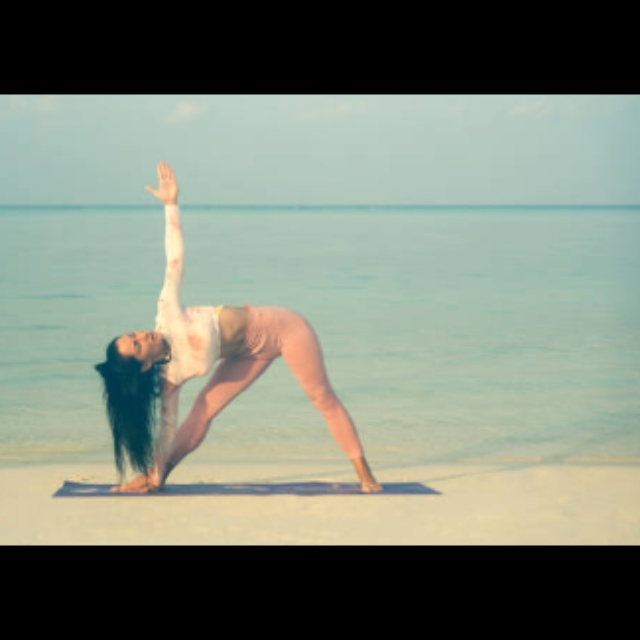Triangle_Pose: (86, 159, 394, 498)
